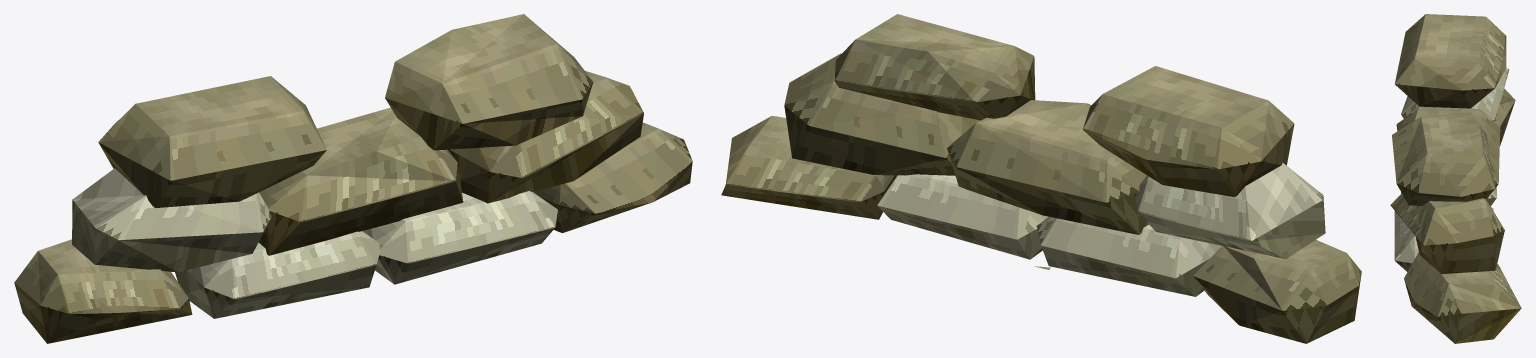
The model's file is C1SMTSNDB1_H.obj.
3 renders of one model, left to right at view 1: azimuth 30°, elevation 25°; view 2: azimuth 150°, elevation 25°; view 3: azimuth 270°, elevation 25°, orthographic. The views are drawn at different scales.
Visible parts, largest first — view 1: Node 3, Node 5, Node 4, Node 6; view 2: Node 3, Node 5, Node 4, Node 6; view 3: Node 3, Node 4, Node 6, Node 5.
Part boxes in pixels (<box>): Node 3: <box>258,14,643,255</box>; Node 5: <box>14,168,380,343</box>; Node 4: <box>98,76,326,208</box>; Node 6: <box>363,122,692,284</box>; Node 3: <box>784,14,1148,234</box>; Node 5: <box>1036,163,1361,343</box>; Node 4: <box>1082,66,1294,196</box>; Node 6: <box>721,115,1048,259</box>; Node 3: <box>1390,109,1504,274</box>; Node 4: <box>1395,14,1506,108</box>; Node 6: <box>1394,206,1521,343</box>; Node 5: <box>1401,67,1515,206</box>.
Bounding box in the file's own units: 3.51 × 1.1 × 0.8479.
Materials: 7 (7 with a texture image).
